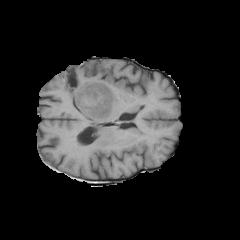glioma: (59, 66, 126, 120)
